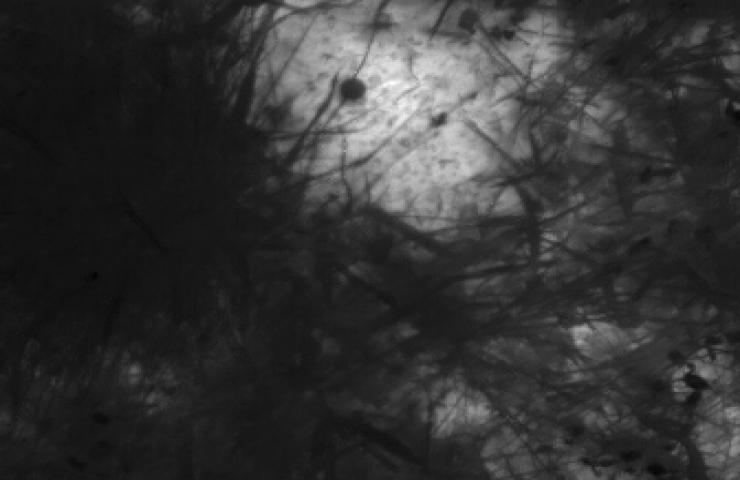landmines: (225, 1, 608, 251)
